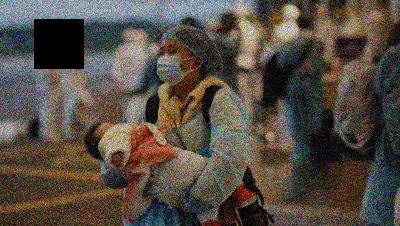with_mask: (158, 43, 191, 85)
